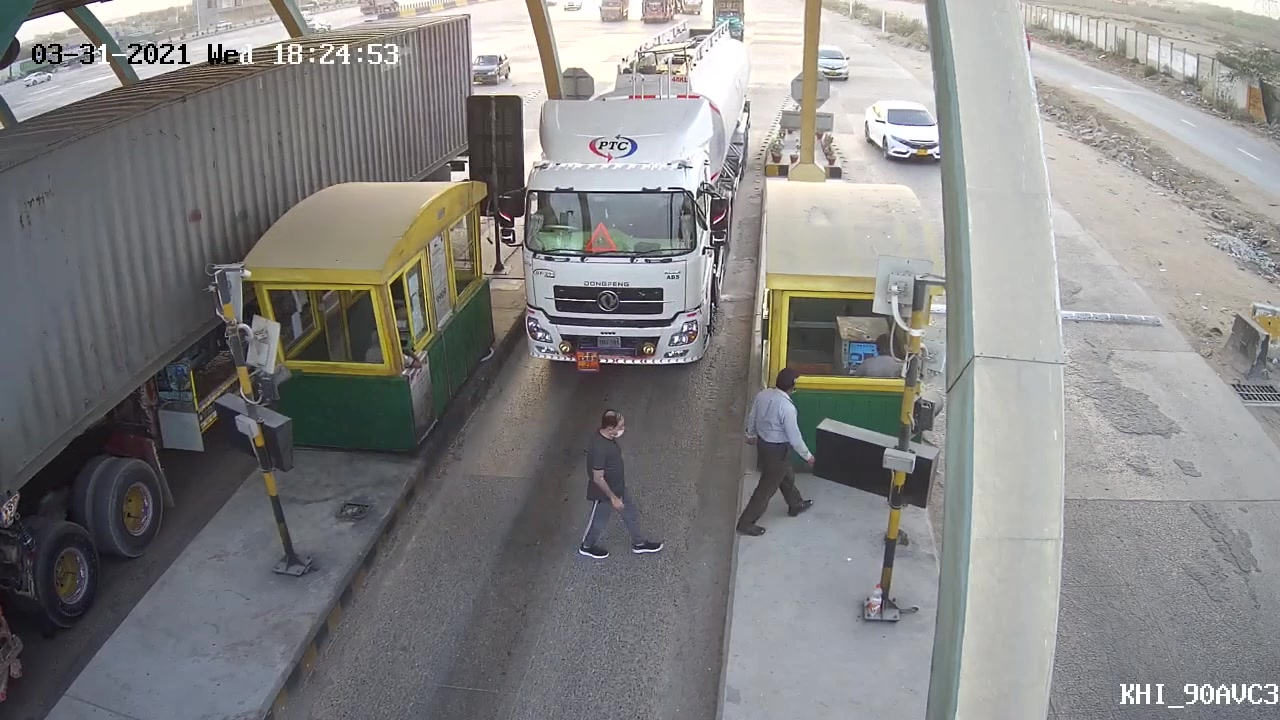F6: (489, 70, 752, 375)
